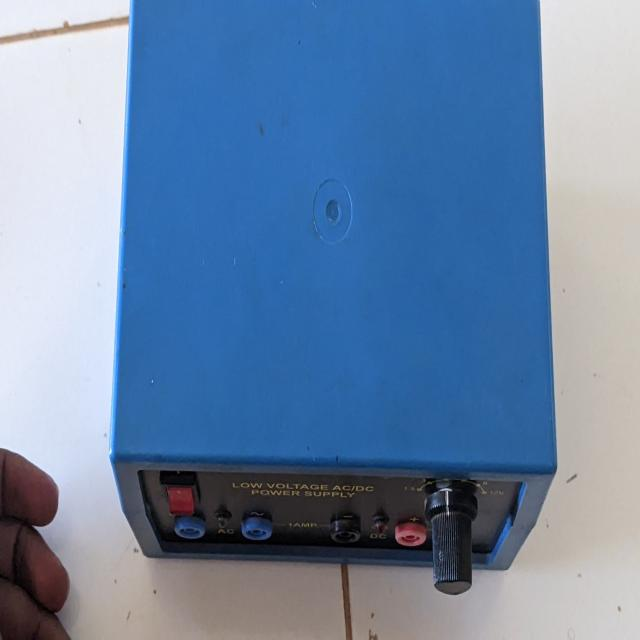Low Voltage AC-DC Power Supply 12 V: (100, 19, 578, 606)
